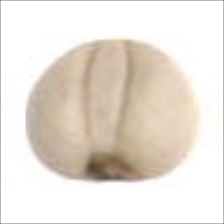L5: (82, 38, 133, 150), (70, 151, 154, 184)
L6: (25, 39, 200, 182)
